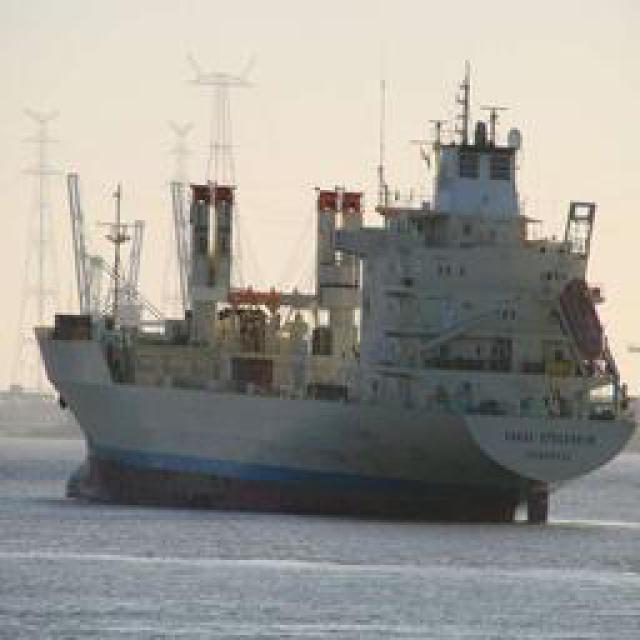Ship: (32, 64, 622, 517)
